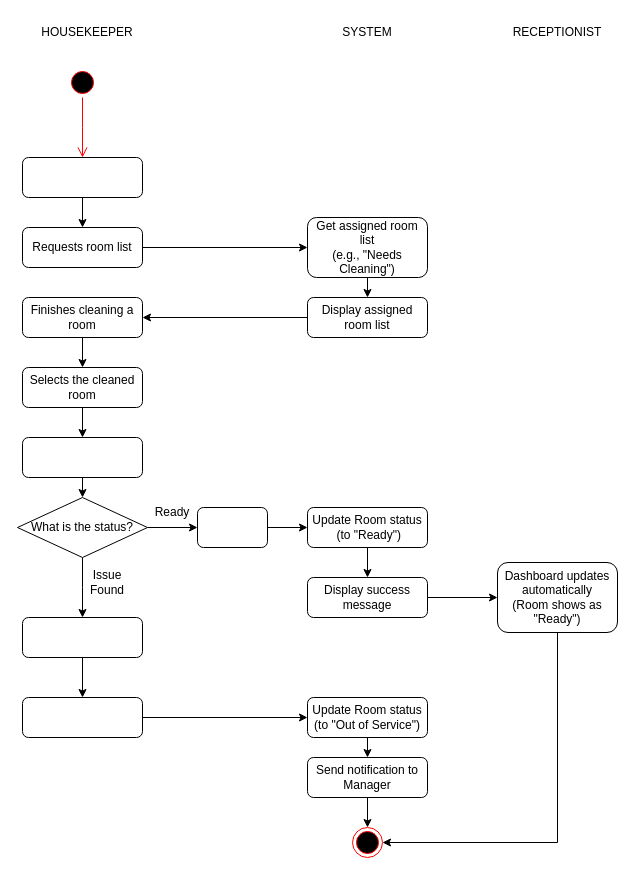
Image size: 635x875. Some labels were removed from this diagram. Here are the shapes that lost their labels. From the top down, the centre of each, then its label:
pixel 82 177: Logs into system
pixel 82 457: Selects new status
pixel 232 527: Click "Save"
pixel 82 637: Enter maintenance note
pixel 82 717: Click "Report"
